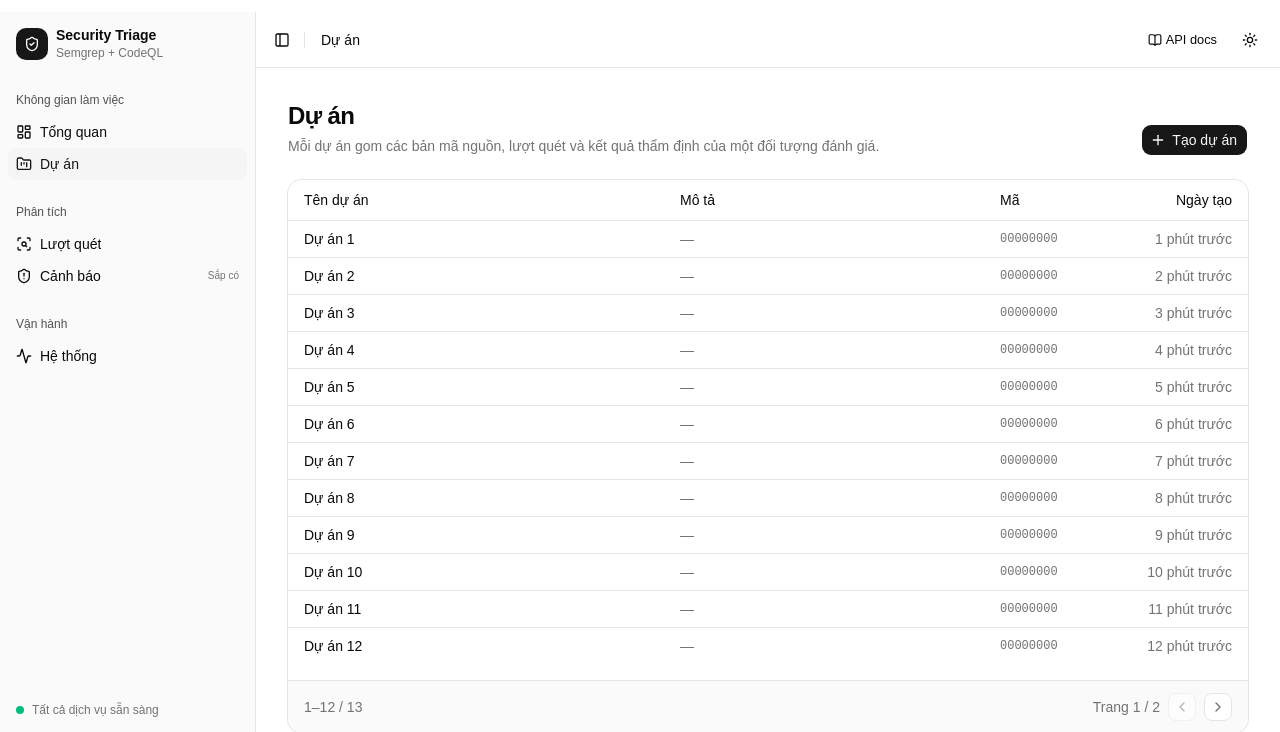
Test case: Projects page › pages through projects and keeps the page in the URL
expect the link "Dự án 1" is shown: met, box [304,230,355,246]
Click the button named "Trang sau".
click(1218, 706)  # box [1204,692,1232,720]
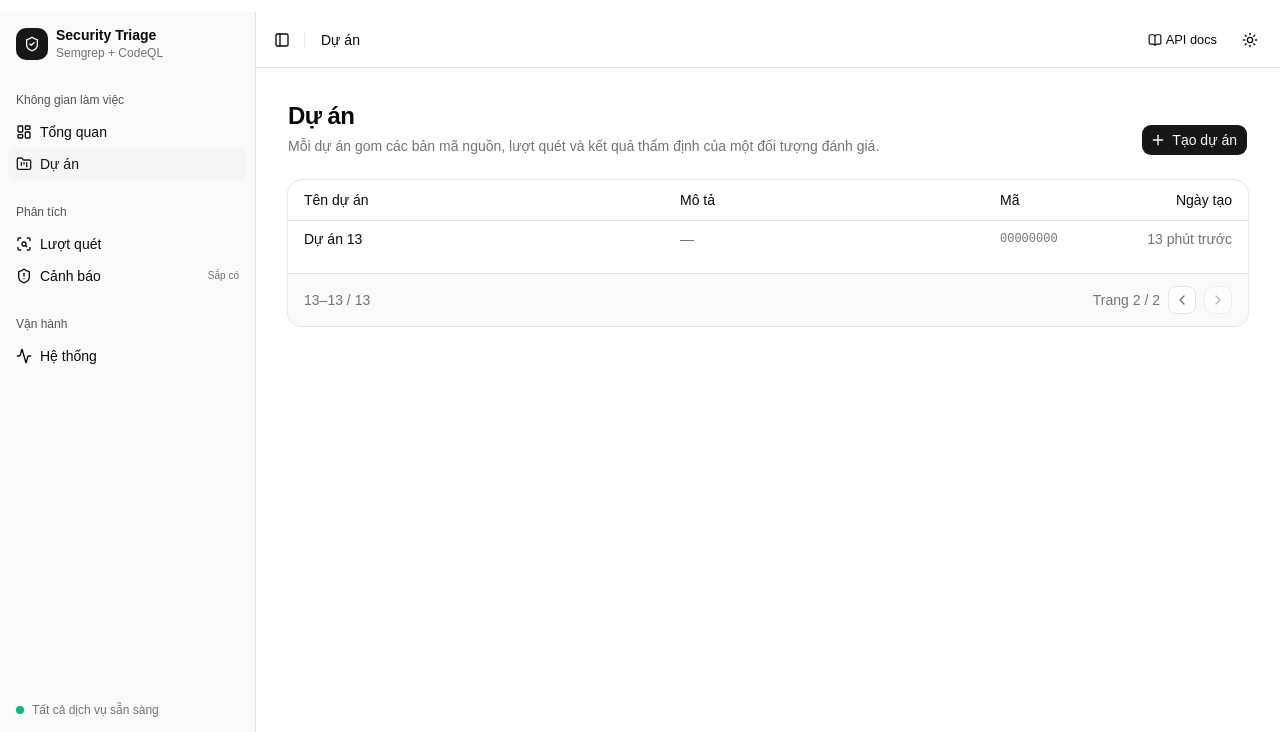
expect the link "Dự án 13" is shown: met, box [304,230,362,246]
